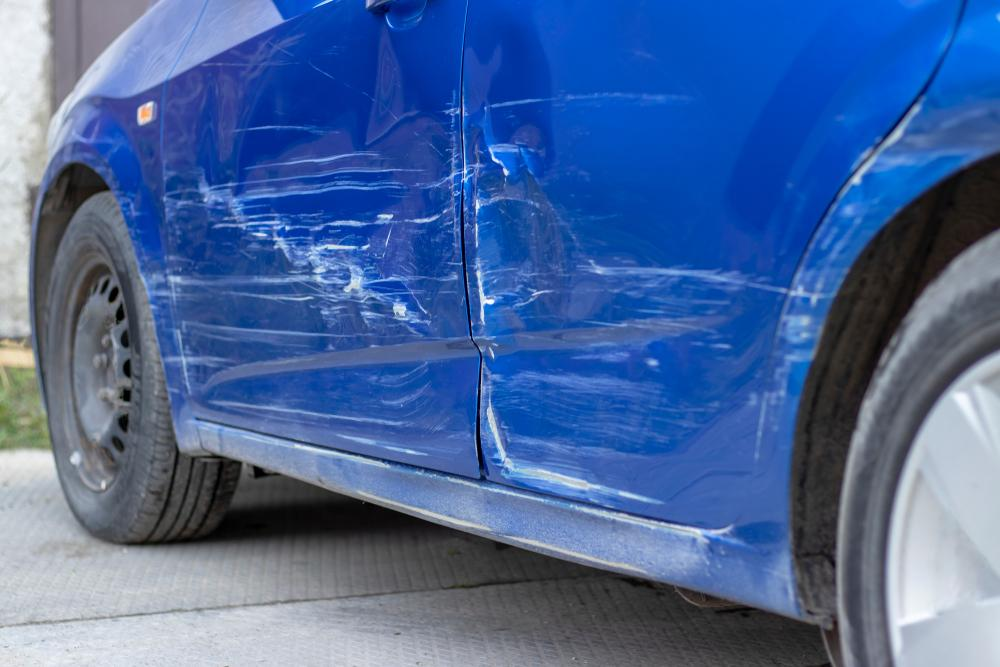dent: (461, 18, 778, 492), (159, 20, 474, 460)
